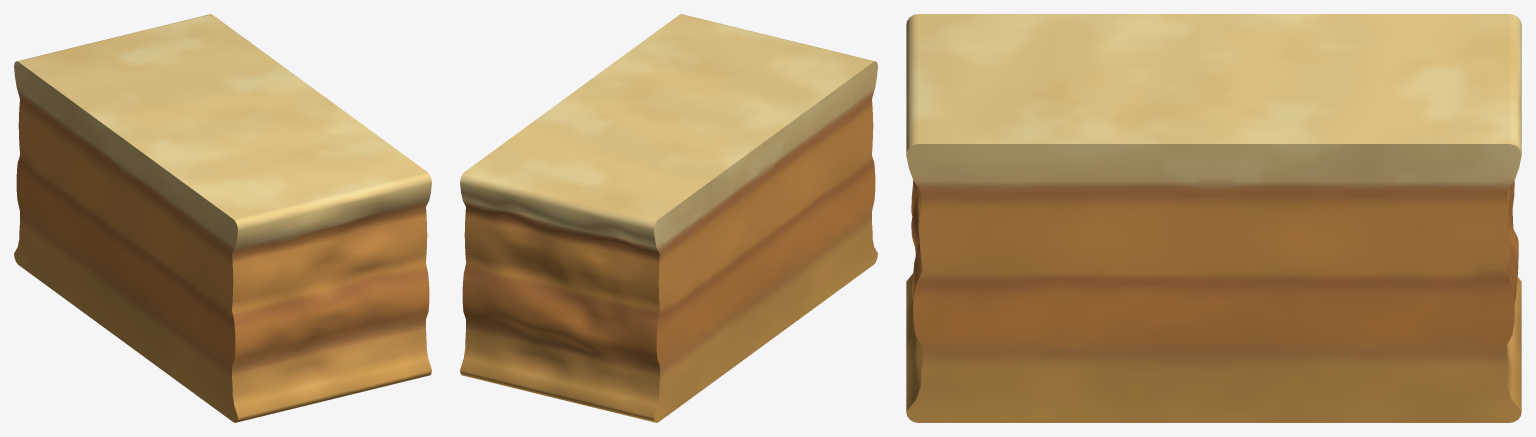
Rendered from SD_G01_Ground_Straight.fbx.
3 renders of one model, left to right at view 1: azimuth 30°, elevation 25°; view 2: azimuth 150°, elevation 25°; view 3: azimuth 270°, elevation 25°, orthographic. The views are drawn at different scales.
Visible parts, largest first — view 1: SD_G01_Ground_Straight; view 2: SD_G01_Ground_Straight; view 3: SD_G01_Ground_Straight.
Part boxes in pixels (x1=…): SD_G01_Ground_Straight: x1=14, y1=14, x2=431, y2=422; SD_G01_Ground_Straight: x1=460, y1=14, x2=877, y2=422; SD_G01_Ground_Straight: x1=906, y1=14, x2=1521, y2=422.
Size of the model in its own units: 2 by 2 by 4.
